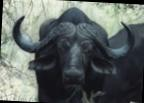Buffalo: (0, 5, 144, 92)
